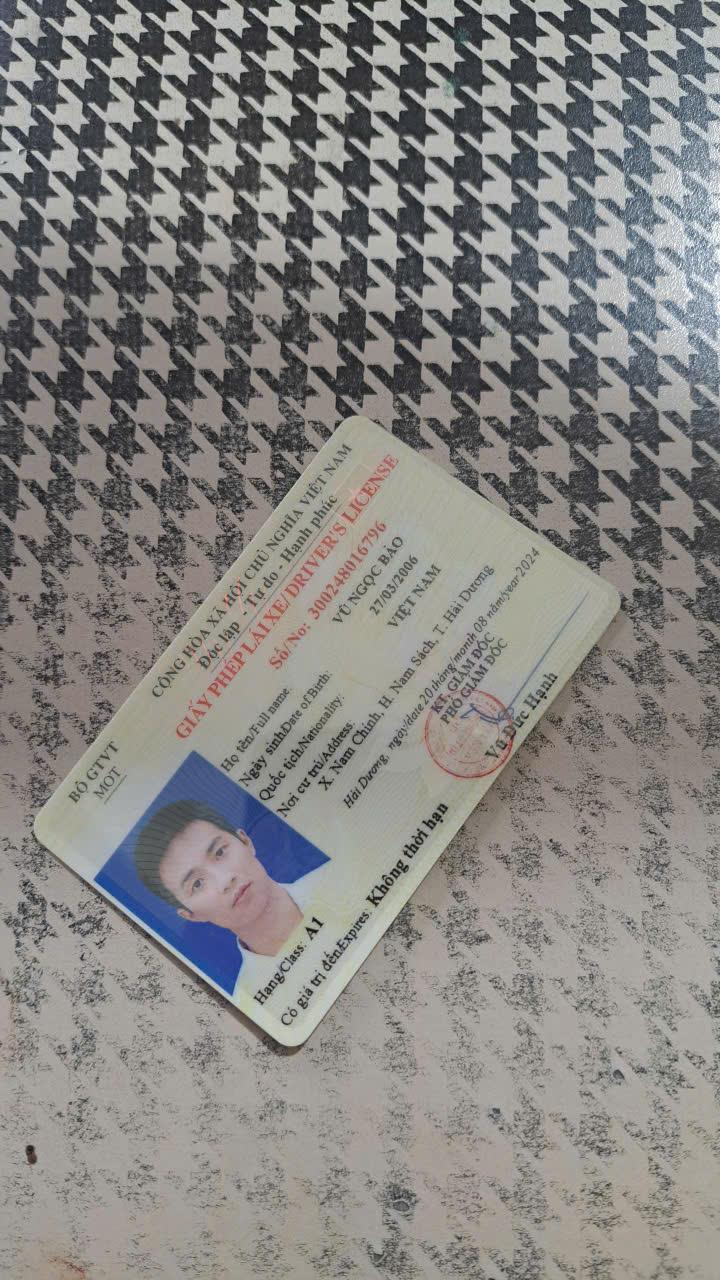gplx: (18, 407, 635, 1065)
